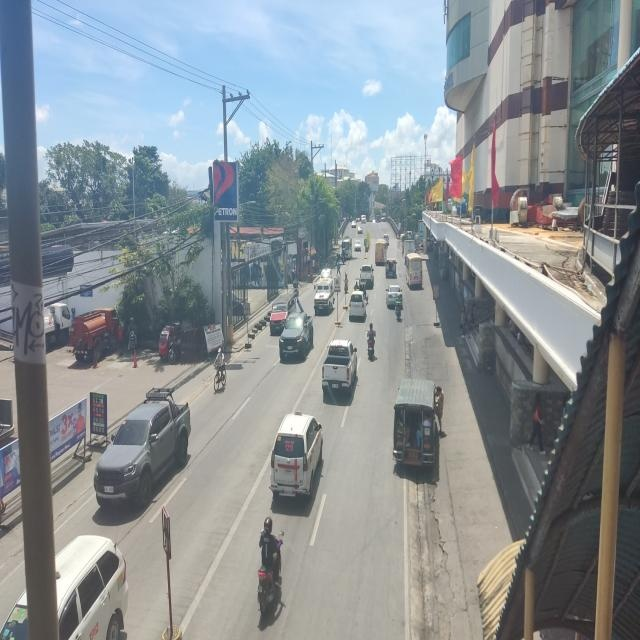Motorcycle: (256, 512, 285, 620), (366, 322, 376, 362), (344, 270, 349, 292)
Truck: (403, 239, 416, 263)
